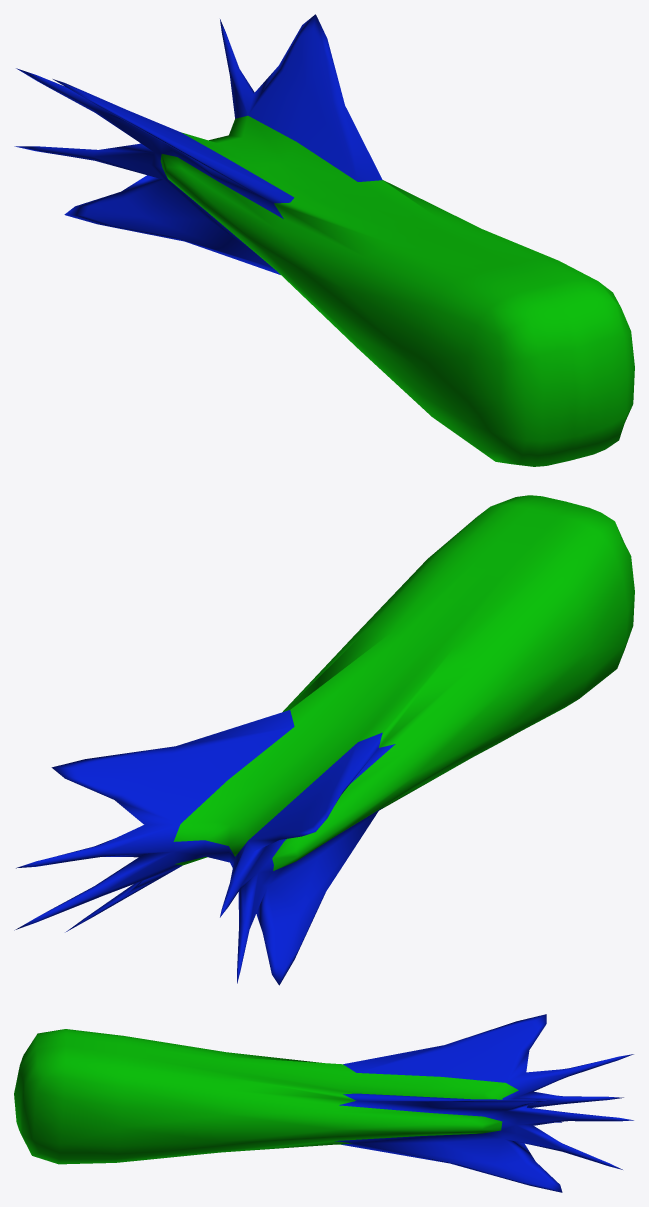
File: Tail.fbx
3 renders of one model, top to bottom at view 1: azimuth 30°, elevation 25°; view 2: azimuth 150°, elevation 25°; view 3: azimuth 270°, elevation 25°, orthographic. The views are drawn at different scales.
Visible parts, largest first — view 1: Dragon; view 2: Dragon; view 3: Dragon.
Boxes of the visible parts, x1,y1,x2,y2 form: Dragon: (14, 14, 634, 466); Dragon: (14, 495, 634, 985); Dragon: (14, 1014, 633, 1192).
Size of the model in its own units: 37.72 by 23.84 by 115.
